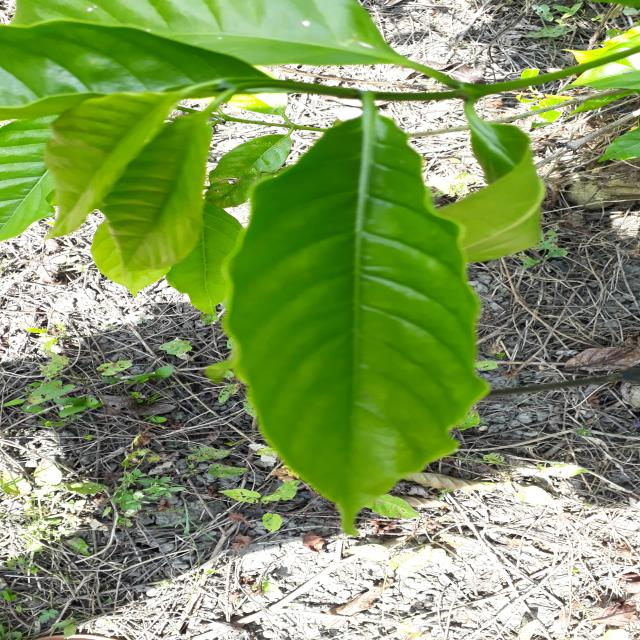Sanas: (224, 117, 488, 537)
